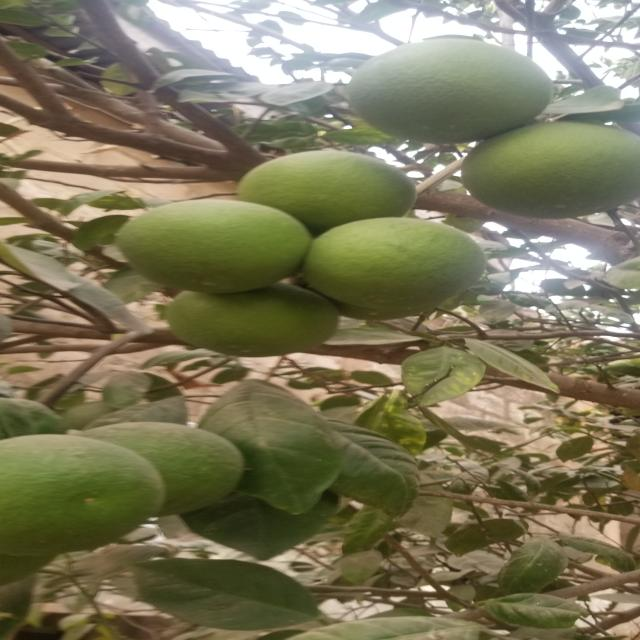Unripe: (98, 194, 313, 298), (340, 35, 542, 141), (3, 425, 160, 554), (307, 224, 490, 314), (457, 127, 640, 217)
